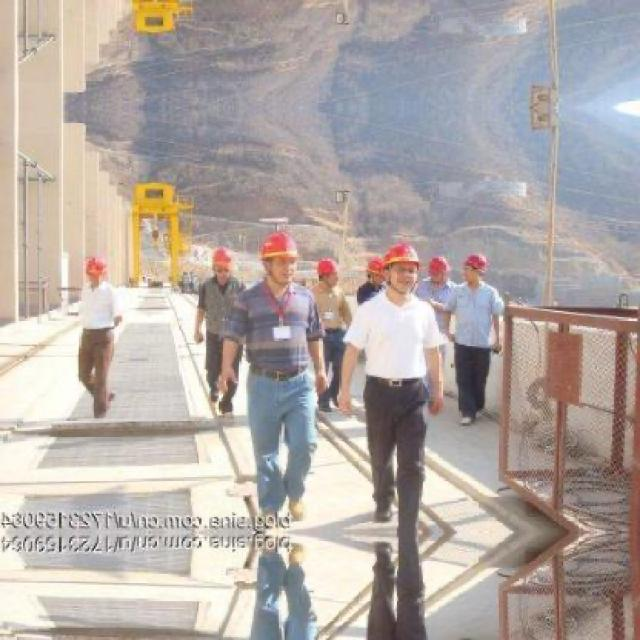con casco: (366, 210, 445, 305), (235, 220, 312, 288), (193, 235, 245, 291)
